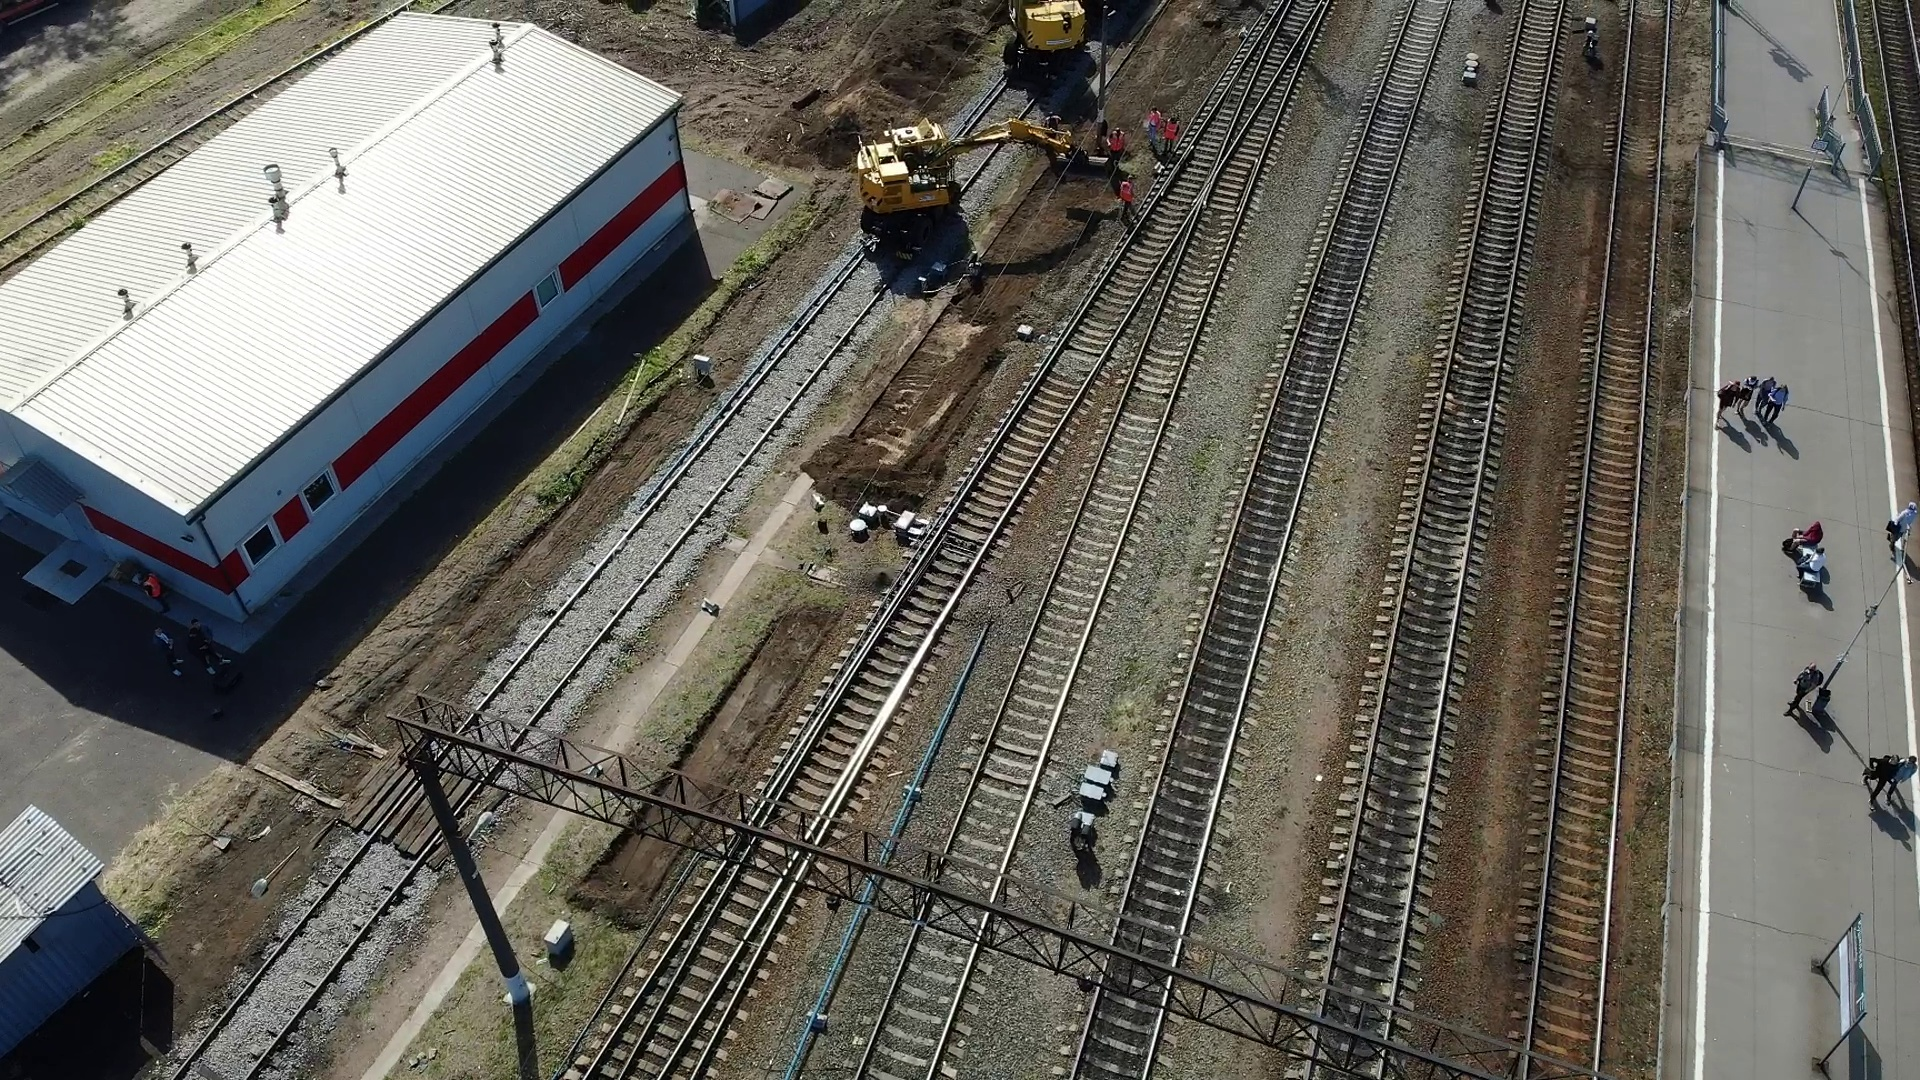kjtv: (849, 114, 982, 257)
